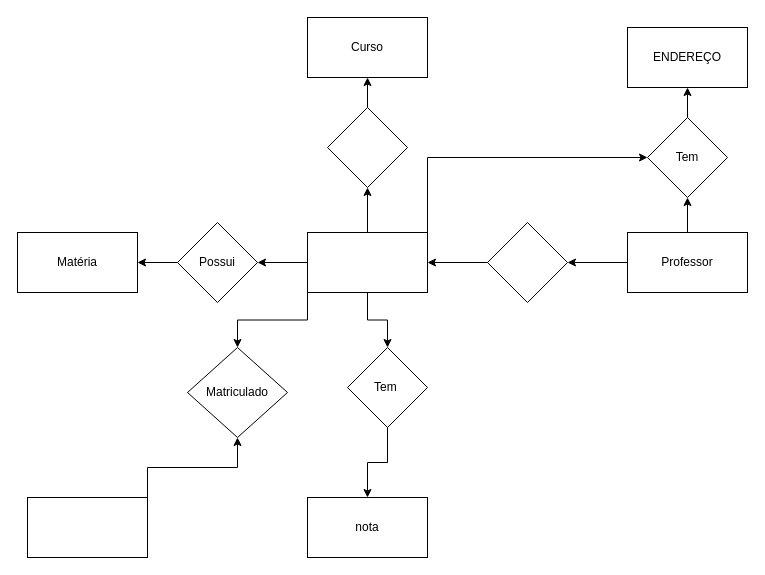
This 765x575 diagram has some shape labels left out. Each missing label, with the box of its shape:
Aluno: (306, 232, 428, 292)
Faz: (326, 106, 408, 188)
Leciona: (486, 222, 568, 302)
turma: (26, 496, 148, 558)
